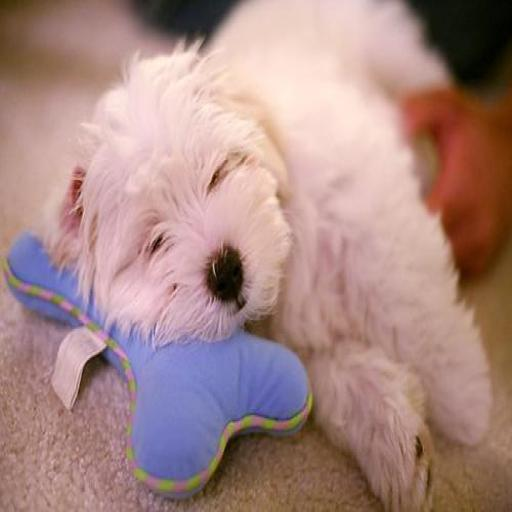dog_face: (62, 62, 308, 344)
